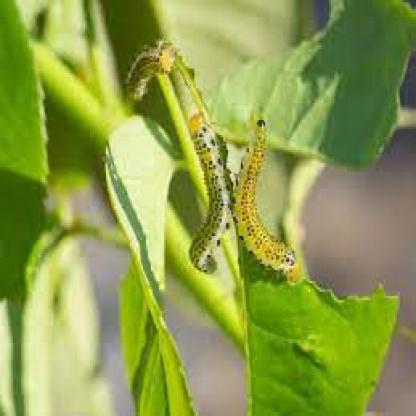sawfly: (231, 114, 307, 291), (183, 110, 236, 276), (122, 36, 178, 111)
